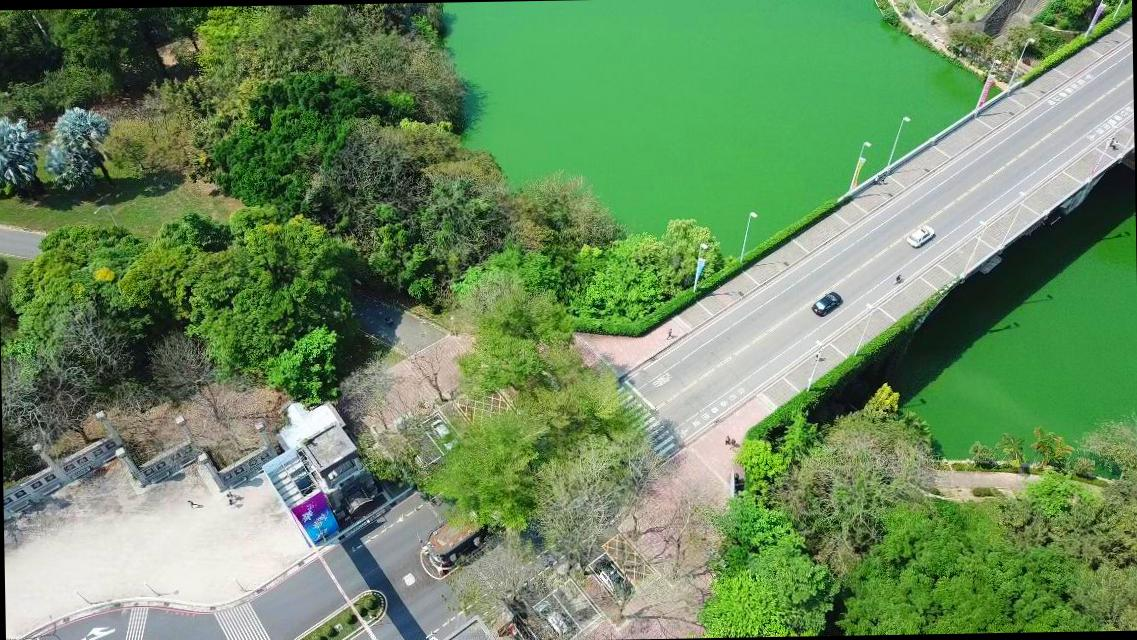vehicle: (594, 557, 629, 597), (536, 600, 570, 636), (430, 418, 458, 452), (812, 289, 843, 315), (907, 224, 934, 247)
